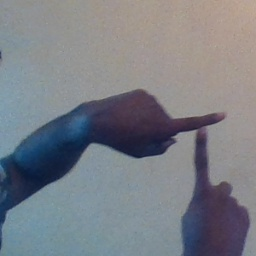T: (142, 91, 245, 215)
